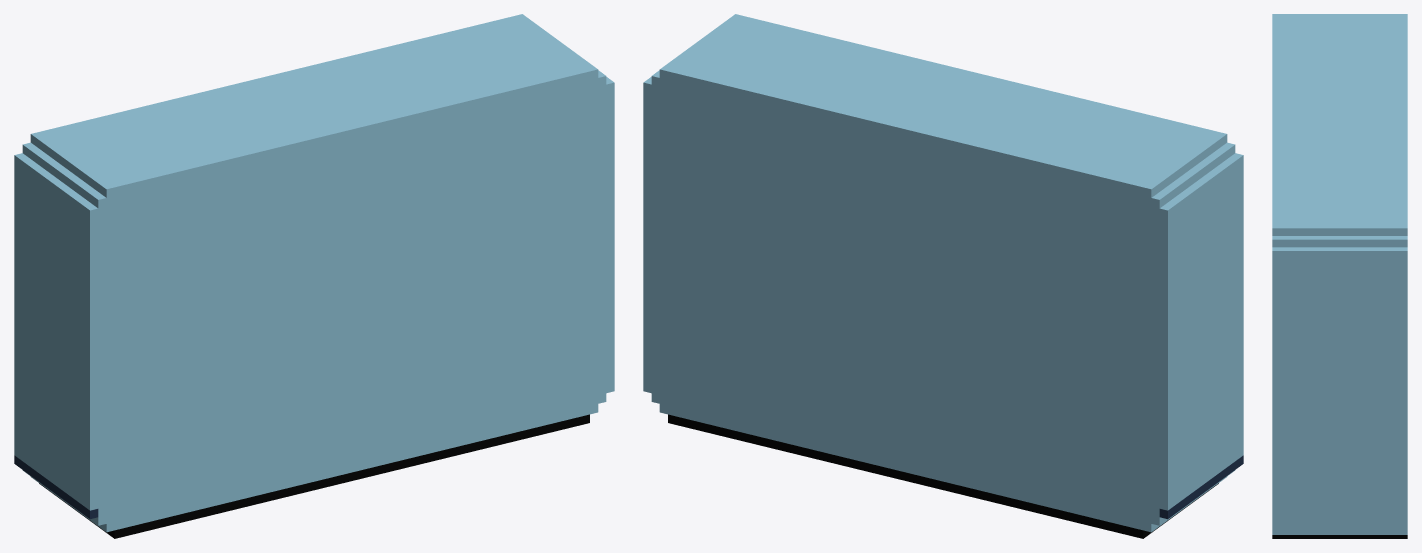
The model's file is buzdolabi_ust_kisim_sade.fbx.
3 renders of one model, left to right at view 1: azimuth 30°, elevation 25°; view 2: azimuth 150°, elevation 25°; view 3: azimuth 270°, elevation 25°, orthographic. The views are drawn at different scales.
Visible parts, largest first — view 1: generated; view 2: generated; view 3: generated.
Part boxes in pixels (x1,y1,x2,y2): generated: (14,14,614,538); generated: (643,14,1243,538); generated: (1272,14,1407,538).
Bounding box in the file's own units: 640 × 410 × 160.
